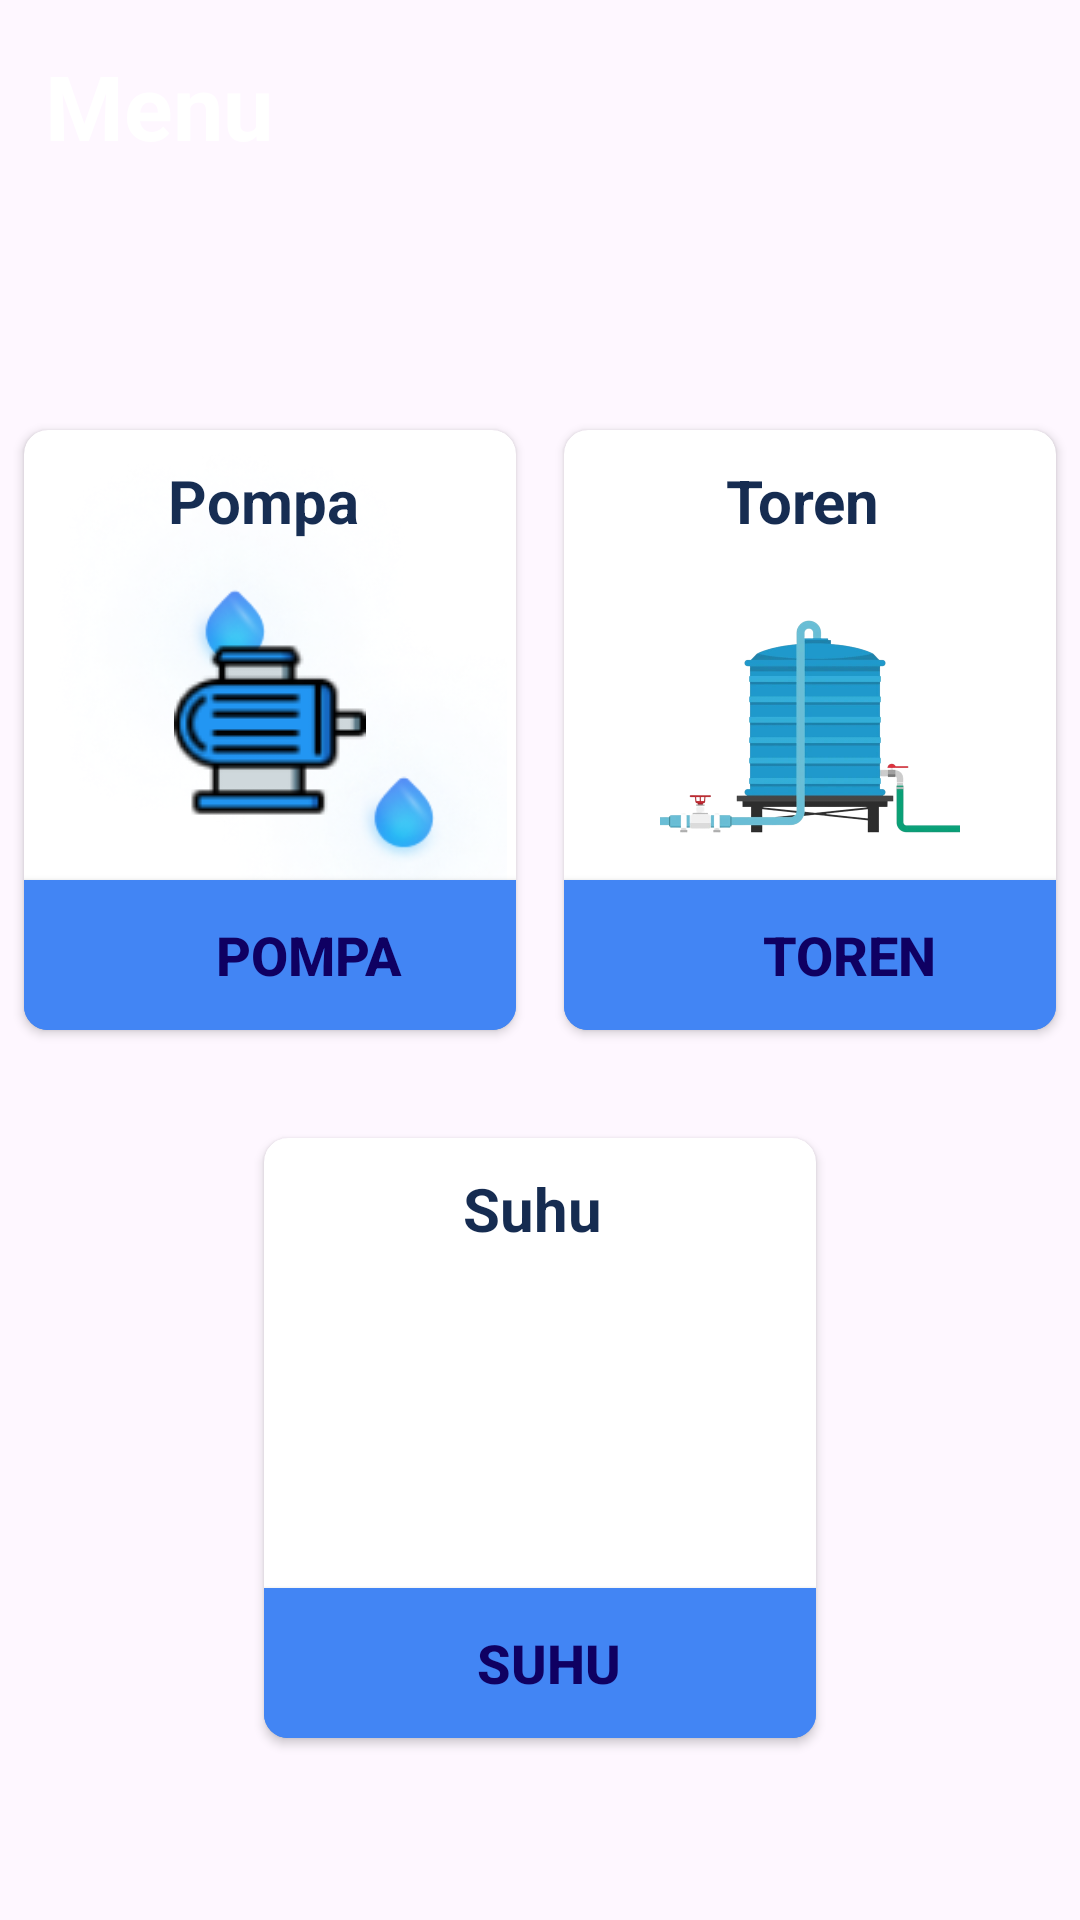

Icon click points for this 1080 x 1920 phone screenshot, format (x,y):
watertank: (810,726)
